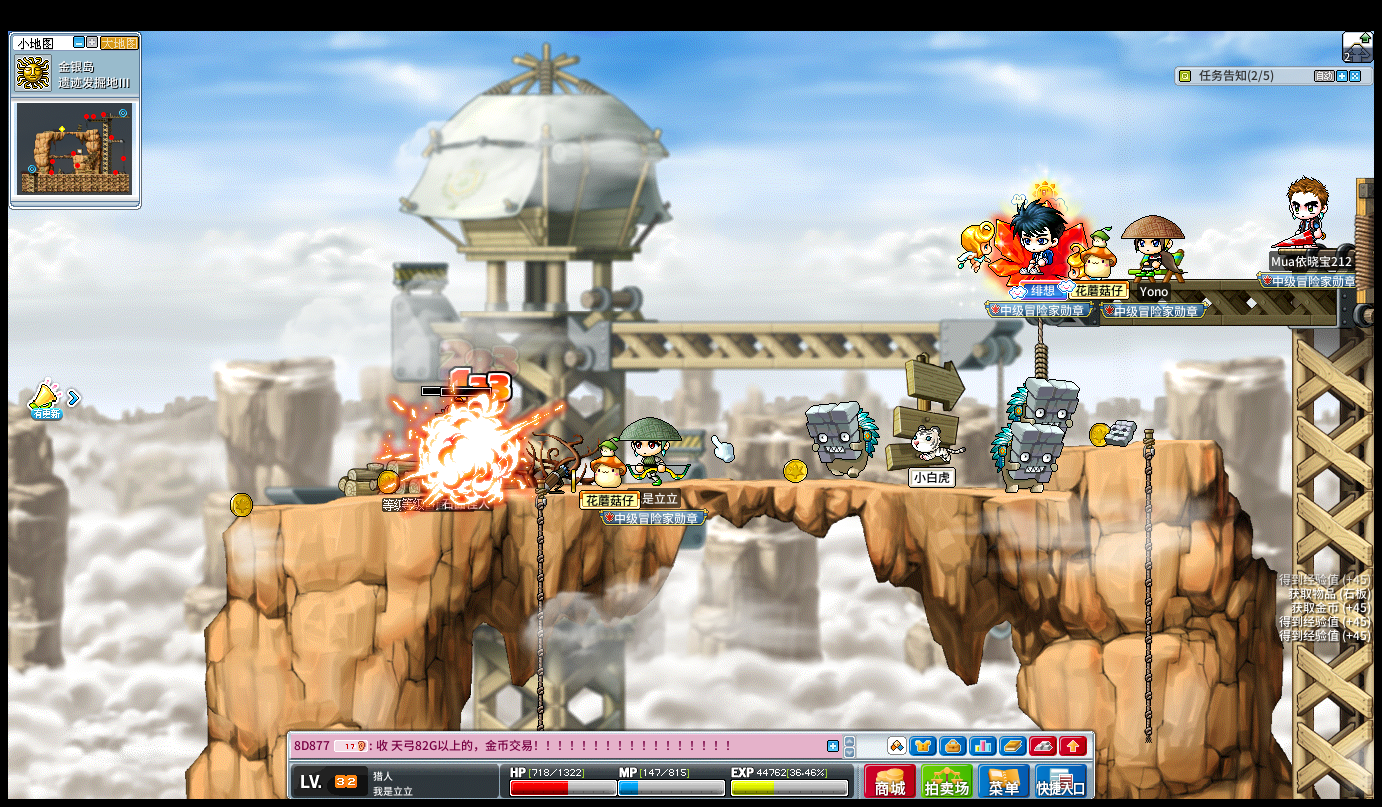floor: (232, 476, 1111, 496), (1070, 435, 1219, 449)
monster: (804, 400, 880, 482), (990, 419, 1064, 495), (1008, 376, 1081, 426)
rope: (1140, 428, 1155, 760), (530, 484, 544, 693), (533, 482, 546, 687)
